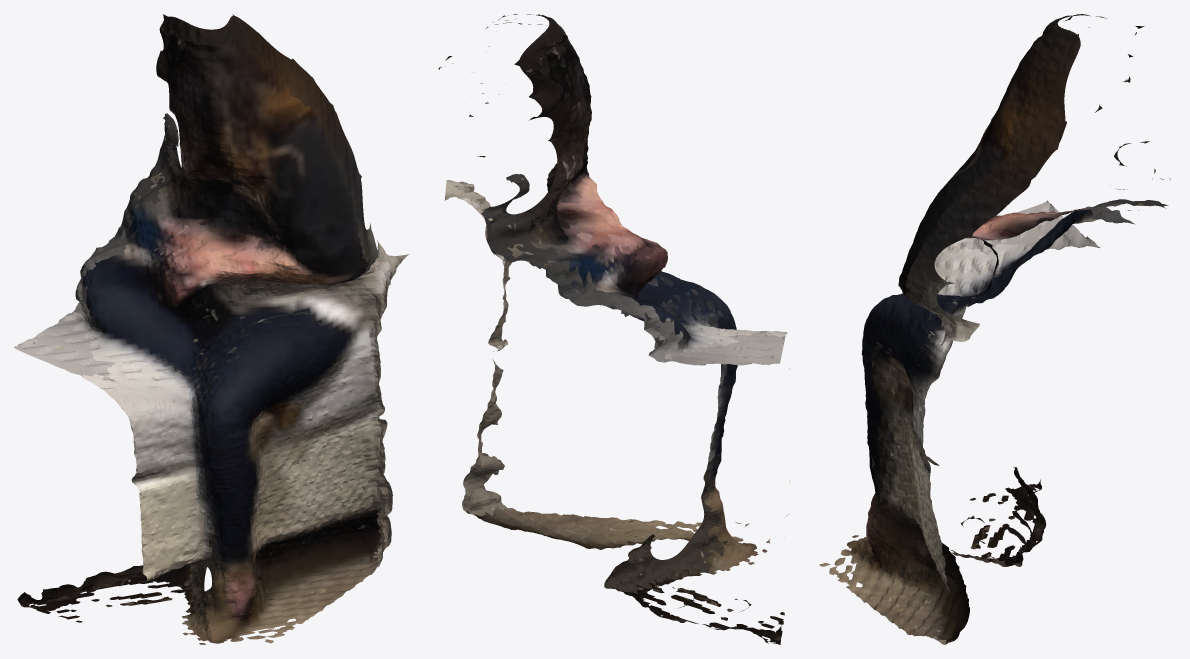
3 views of the same model, side by side, from view 1: azimuth 30°, elevation 25°; view 2: azimuth 150°, elevation 25°; view 3: azimuth 270°, elevation 25° (orthographic). The views are drawn at different scales.
Size of the model in its own units: 0.8724 by 1.26 by 0.7077.
Materials: 1 (1 with a texture image).
